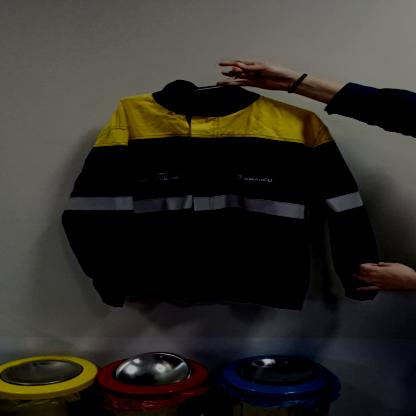C_eletrica: (61, 88, 379, 309)
